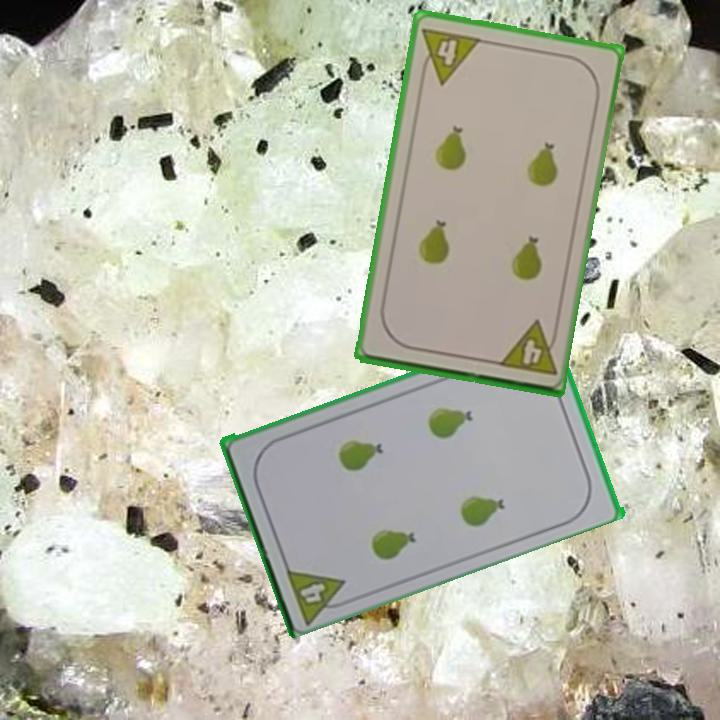4p: (282, 561, 355, 625), (416, 23, 484, 87), (494, 317, 561, 379)
